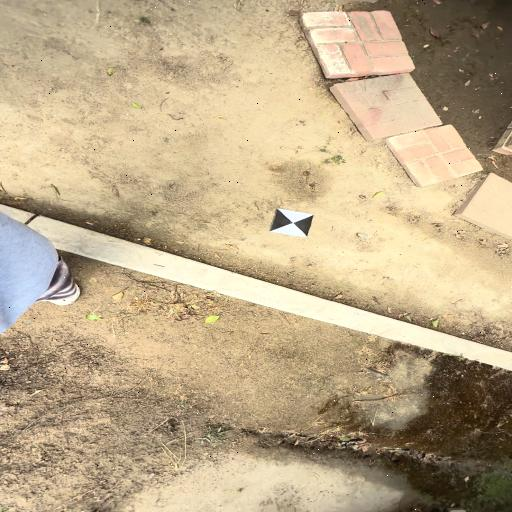target: (271, 209, 314, 237)
